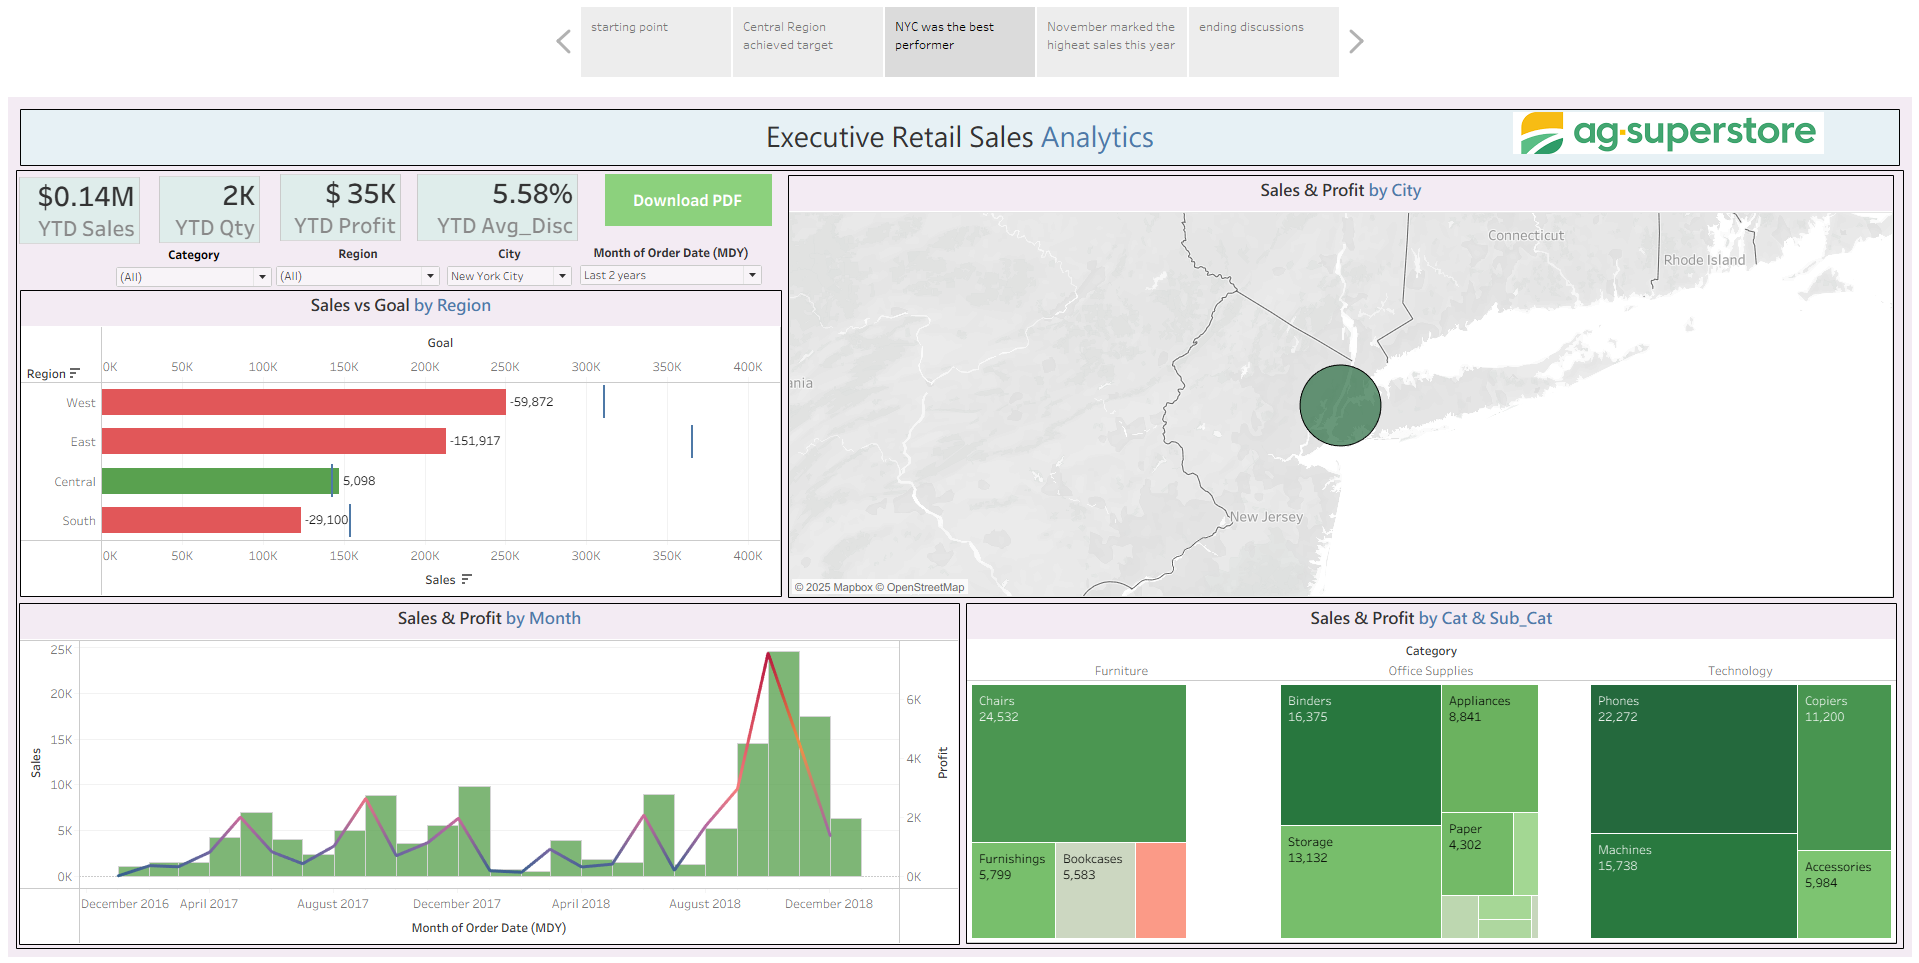

Layout of this report page (visuals, bound fields, positions):
{"tool":"tableau","page":{"name":"Dashboard 1","canvas":[1000,1000],"units":"permille","ordinal":0},"visuals":[{"type":"title","box":[4.7,9.3,990.6,75.9]},{"type":"image","param":"Image/download.png","box":[780.4,17.5,182.6,49.1]},{"type":"worksheet","title":"profit","mark":"Automatic","box":[141.6,70.1,92.5,112.2]},{"type":"worksheet","title":"disc","mark":"Automatic","box":[213.6,70.1,110.6,120.3]},{"type":"worksheet","title":"qty","mark":"Automatic","box":[78.4,72.4,77.8,118]},{"type":"worksheet","title":"sales","mark":"Automatic","box":[4.7,73.6,88.9,105.1]},{"type":"image","box":[5.3,86.5,989.4,903]},{"type":"dashboard-object","box":[313.6,90,87.5,60.8]},{"type":"worksheet","title":"City_wise","mark":"Automatic","box":[409.9,91.1,580.7,491.8]},{"type":"filter","title":"time_series","param":"[federated.1mje2vl1haba1o11l849009vdhme].[tmn:Order Date (MDY):qk]","box":[299,170.6,98.9,84.1]},{"type":"filter","title":"Target_vs_Achieved","param":"[federated.1mje2vl1haba1o11l849009vdhme].[none:Region:nk]","box":[139.3,171.7,89.5,66.6]},{"type":"filter","title":"City_wise","param":"[federated.1mje2vl1haba1o11l849009vdhme].[none:City:nk]","box":[228.8,171.7,69,79.4]},{"type":"filter","title":"tree_map","param":"[federated.1mje2vl1haba1o11l849009vdhme].[none:Category:nk]","box":[55,172.9,84.8,61.9]},{"type":"worksheet","title":"Target_vs_Achieved","mark":"Automatic","rows":["Region"],"cols":["Sales","Goal"],"box":[6.5,224.3,400.5,357.5]},{"type":"worksheet","title":"time_series","mark":"Automatic","rows":["Sales","Profit"],"cols":["Order Date (MDY)"],"box":[5.9,588.8,494.4,397.2]},{"type":"worksheet","title":"tree_map","mark":"Automatic","cols":["Category"],"box":[503.2,588.8,489.1,396]}]}

Visuals, with their boxes on the dashboard's canvas, which has no fixed pixel size, in thousandths of its width and height (x1, y1, x2, y2). These are canvas units, not pixel positions in the 1919x963 screenshot, which may show the page scaled, cropped or inside an application window:
title: 5:9:995:85
image: 780:18:963:67
"profit" worksheet: 142:70:234:182
"disc" worksheet: 214:70:324:190
"qty" worksheet: 78:72:156:190
"sales" worksheet: 5:74:94:179
image: 5:86:995:990
dashboard-object: 314:90:401:151
"City_wise" worksheet: 410:91:991:583
"time_series" filter: 299:171:398:255
"Target_vs_Achieved" filter: 139:172:229:238
"City_wise" filter: 229:172:298:251
"tree_map" filter: 55:173:140:235
"Target_vs_Achieved" worksheet: 6:224:407:582
"time_series" worksheet: 6:589:500:986
"tree_map" worksheet: 503:589:992:985
